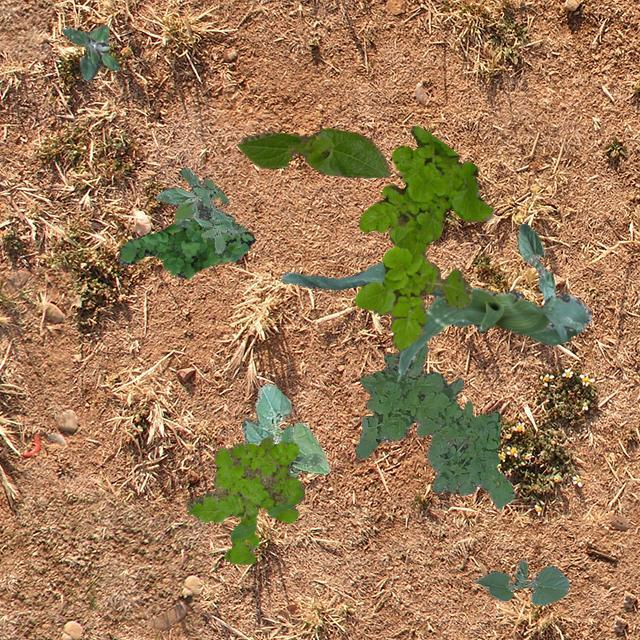crop: (280, 262, 590, 379), (240, 382, 328, 473), (236, 128, 390, 176), (474, 558, 568, 604), (516, 222, 554, 300)
weed: (353, 124, 492, 350), (354, 340, 514, 508), (185, 436, 304, 564), (116, 212, 254, 278), (154, 166, 246, 252), (61, 24, 118, 80), (278, 424, 320, 478)
